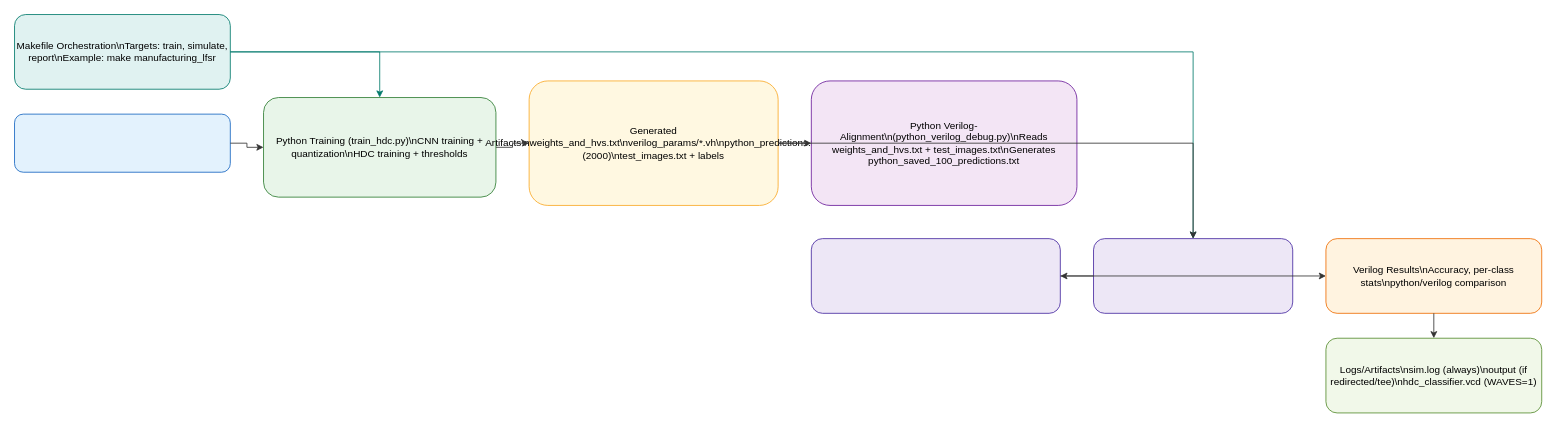
Image size: 1556x427. Some labels were removed from this diagram. The shapes that lost their labels are listed below. From the top down, each one's centre as x and y in pixels, then its label:
At point (122, 142): "Training Images + Labels\n(manufacturing dataset)".
At point (935, 275): "Synthesizable Verilog\n(hdc_classifier.v / hdc_top.v)".
At point (1193, 275): "Testbench\n(hdc_classifier_tb.v)\nLoads params + images".
